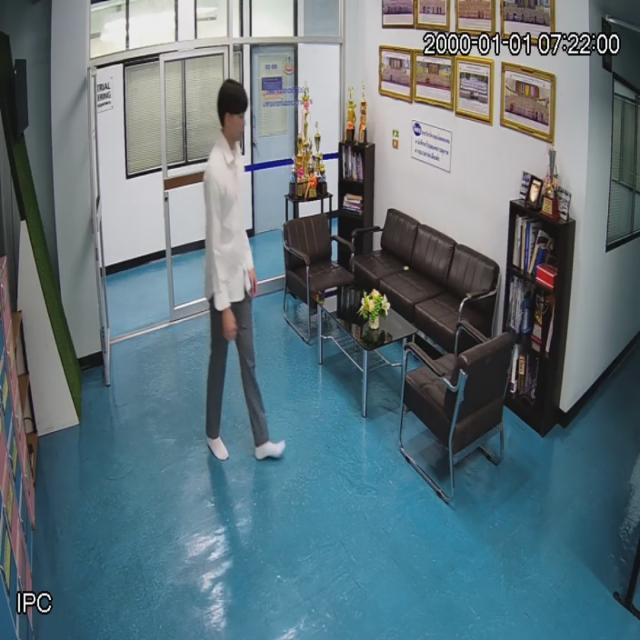normal: (202, 80, 271, 460)
